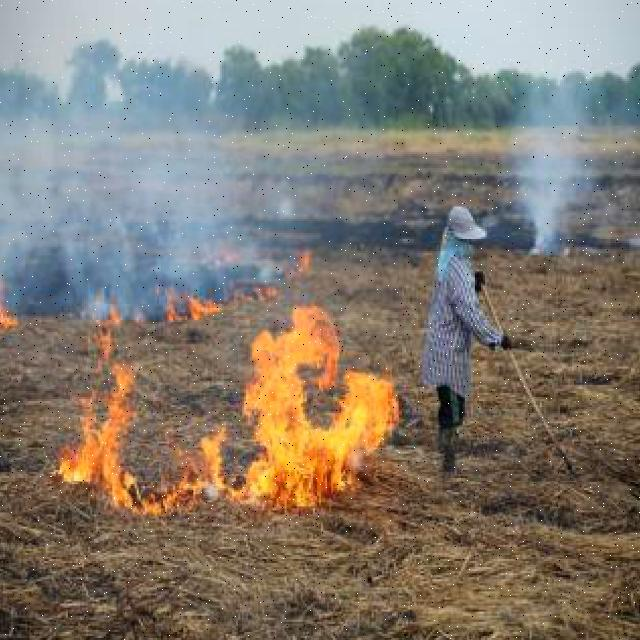fire: (53, 300, 380, 543)
smoke: (0, 77, 277, 334), (504, 85, 586, 257)
